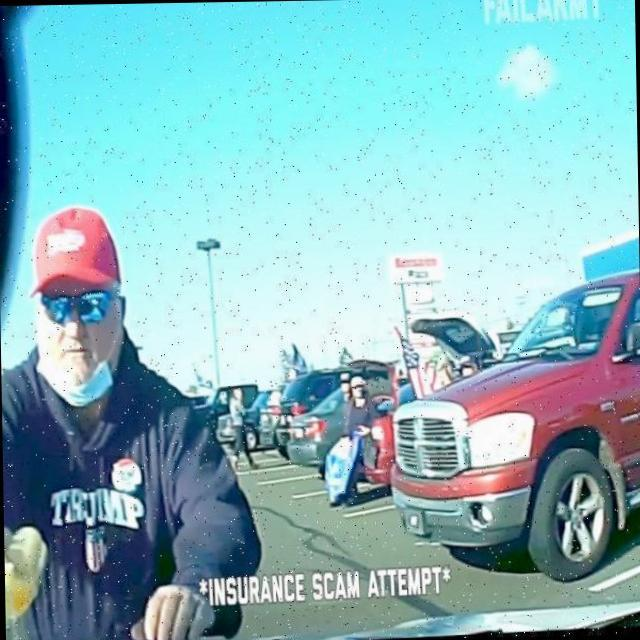person: (0, 195, 262, 640)
